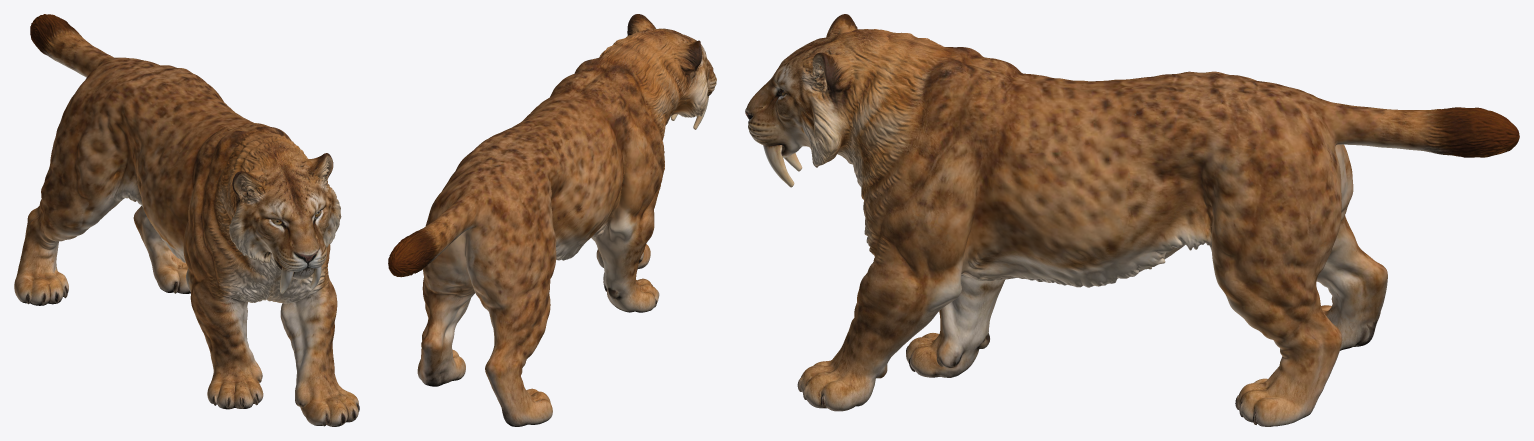
The model's file is preview.glb.
3 views of the same model, side by side, from view 1: azimuth 30°, elevation 25°; view 2: azimuth 150°, elevation 25°; view 3: azimuth 270°, elevation 25° (orthographic). The views are drawn at different scales.
Parts seen in each view (by area): view 1: sabertooth-tiger; view 2: sabertooth-tiger; view 3: sabertooth-tiger.
Boxes of the visible parts, x1=… form: sabertooth-tiger: x1=14, y1=14, x2=359, y2=426; sabertooth-tiger: x1=388, y1=14, x2=716, y2=426; sabertooth-tiger: x1=745, y1=14, x2=1519, y2=426.
Size of the model in its own units: 0.6395 by 1 by 2.07.
1 material, 1 textured.
